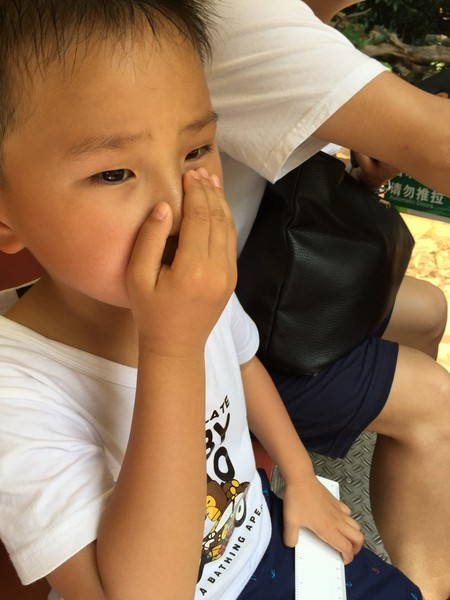face: (22, 27, 238, 310)
